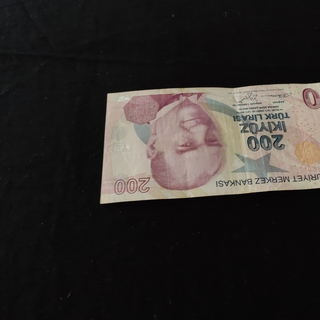200TLFront: (99, 79, 320, 205)
